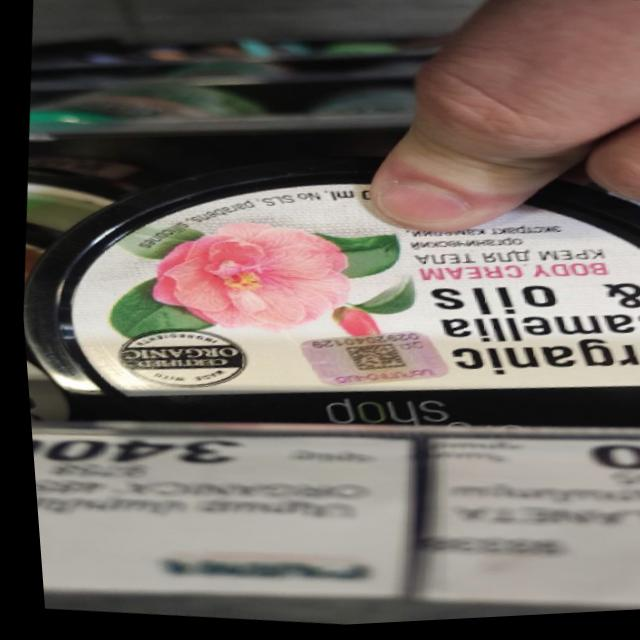datamatrix: (333, 340, 404, 380)
